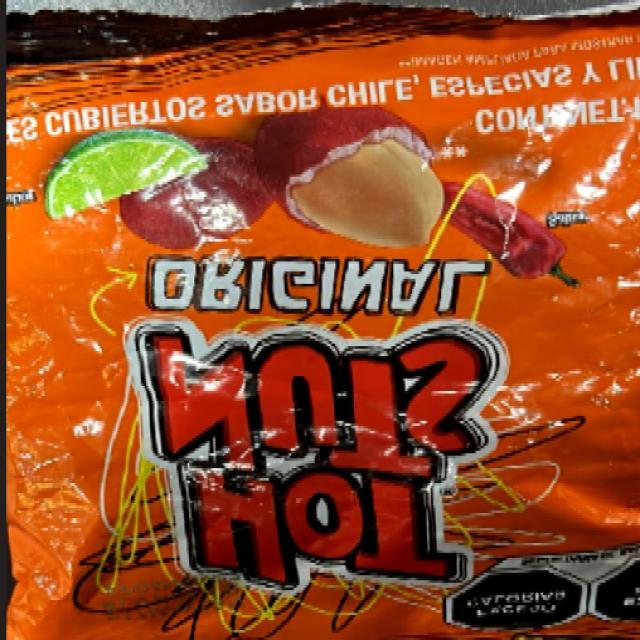hotNutsOriginal: (11, 44, 636, 608)
